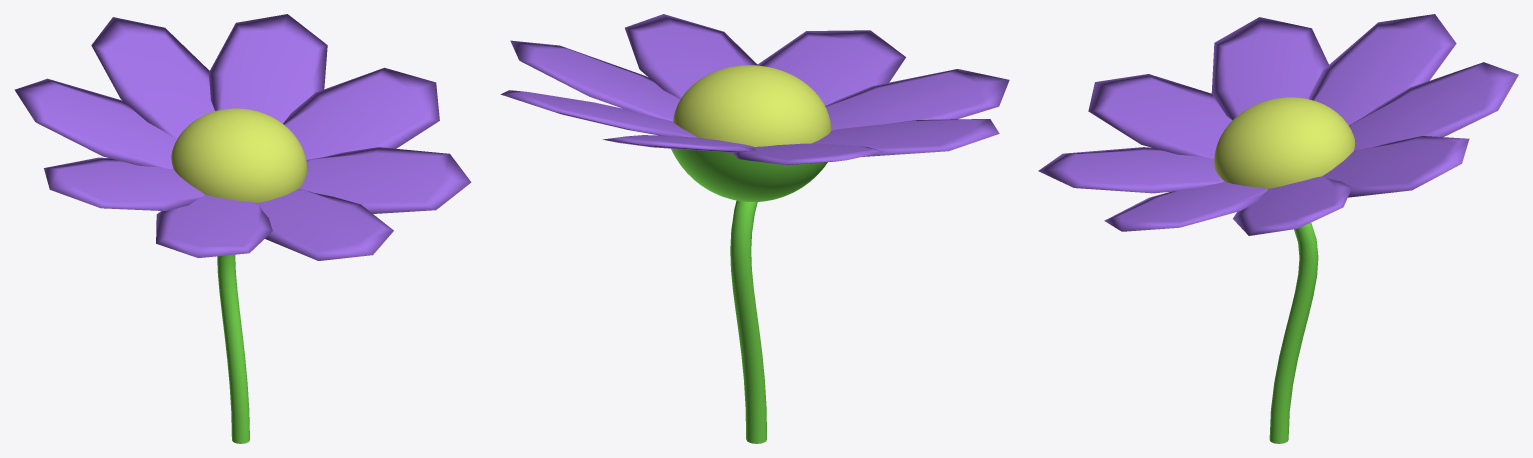
File: Flower_5.fbx
3 renders of one model, left to right at view 1: azimuth 30°, elevation 25°; view 2: azimuth 150°, elevation 25°; view 3: azimuth 270°, elevation 25°, orthographic. The views are drawn at different scales.
Visible parts, largest first — view 1: ベジエカーブ; view 2: ベジエカーブ; view 3: ベジエカーブ.
Part boxes in pixels (x1=…): ベジエカーブ: x1=14, y1=14, x2=471, y2=443; ベジエカーブ: x1=500, y1=14, x2=1009, y2=443; ベジエカーブ: x1=1038, y1=14, x2=1518, y2=443.
Bounding box in the file's own units: 361 × 292 × 355.
